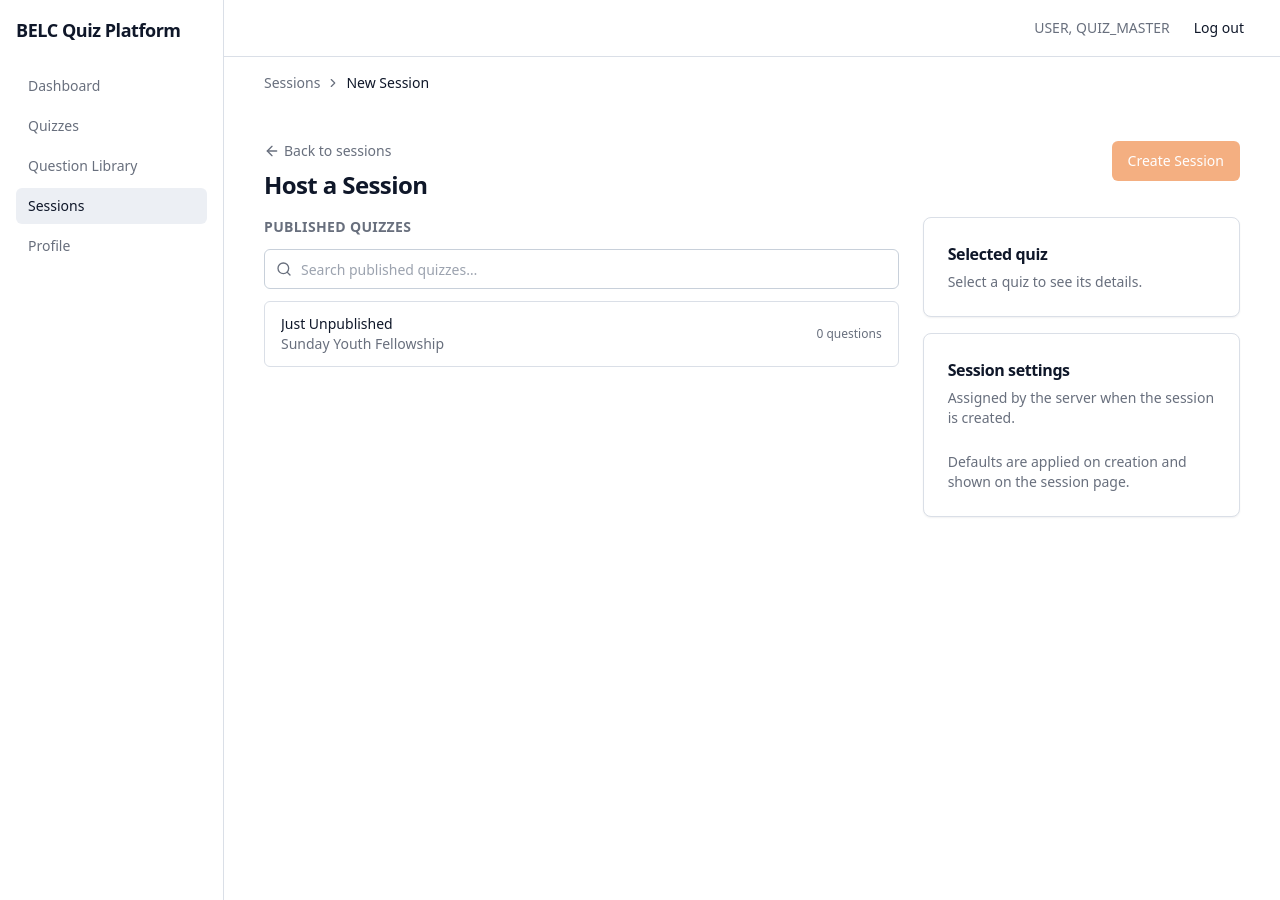
Test case: CreateSessionPage › surfaces the server's rejection when the quiz is not publishable
Click the radio button labelled "Just Unpublished Sunday Youth Fellowship 0 questions": x=337, y=324 [264,301,899,367]
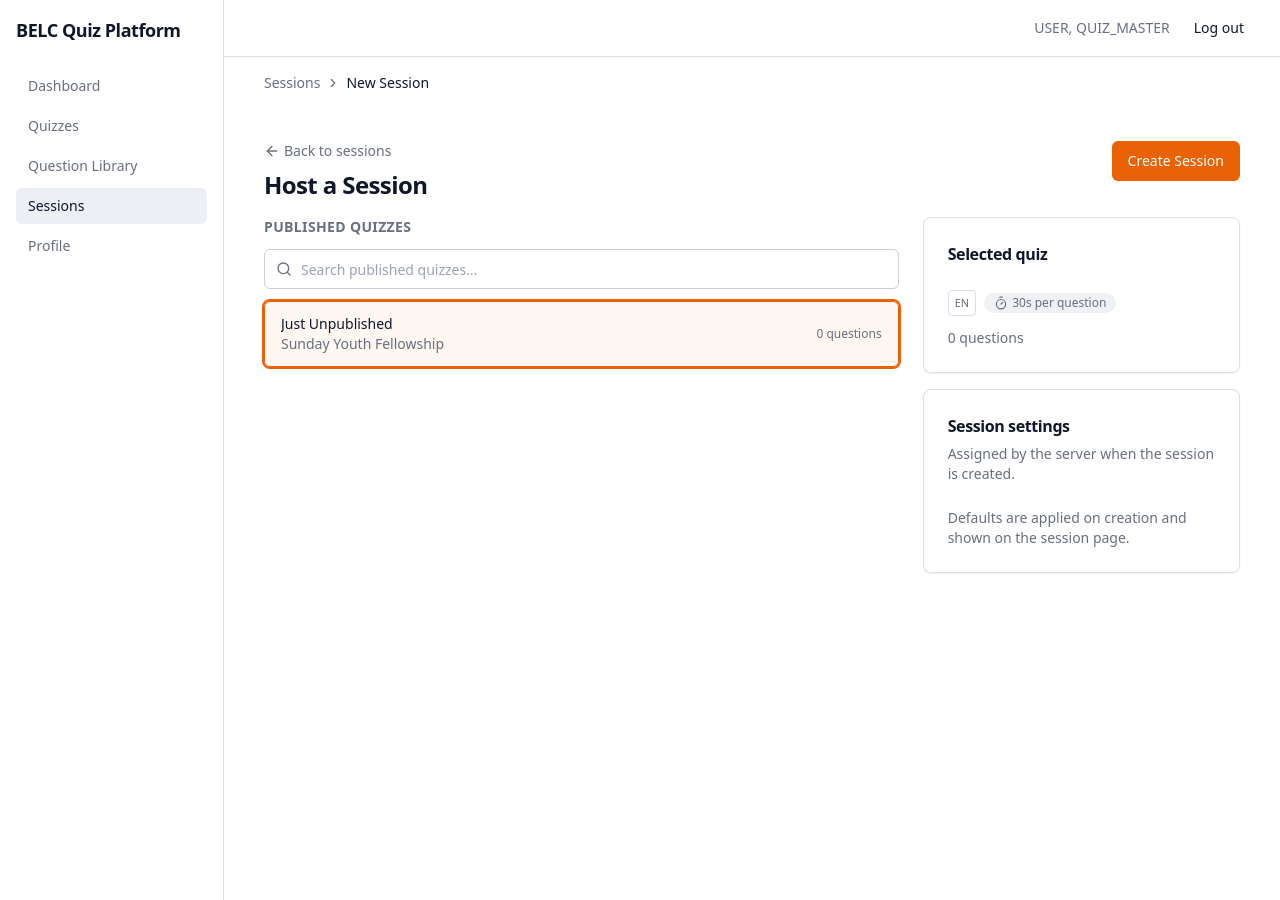
Click the button "Create Session": x=1176, y=161 [1112,141,1240,181]
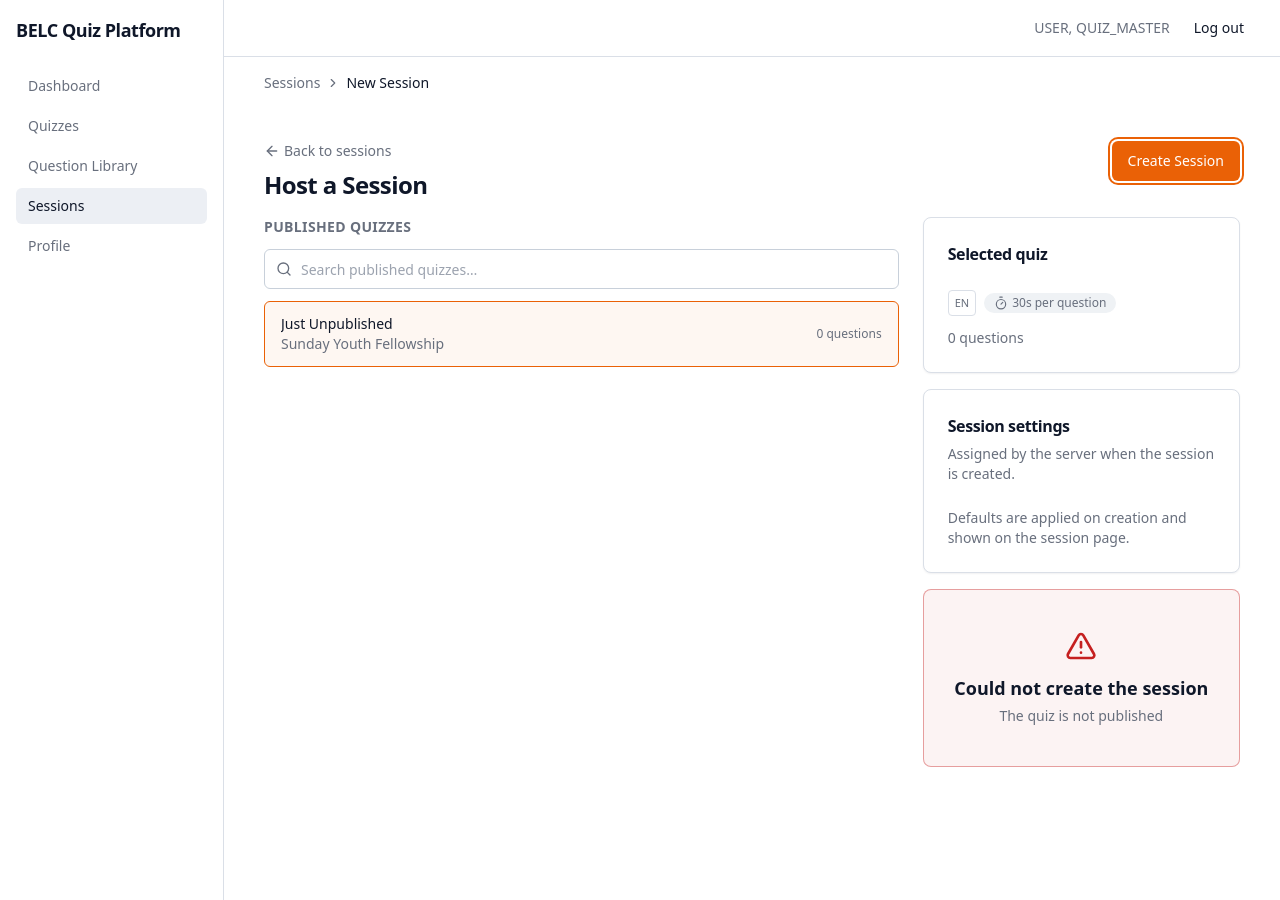
Expected: the text "The quiz is not published" is shown, [999,706,1163,726]
